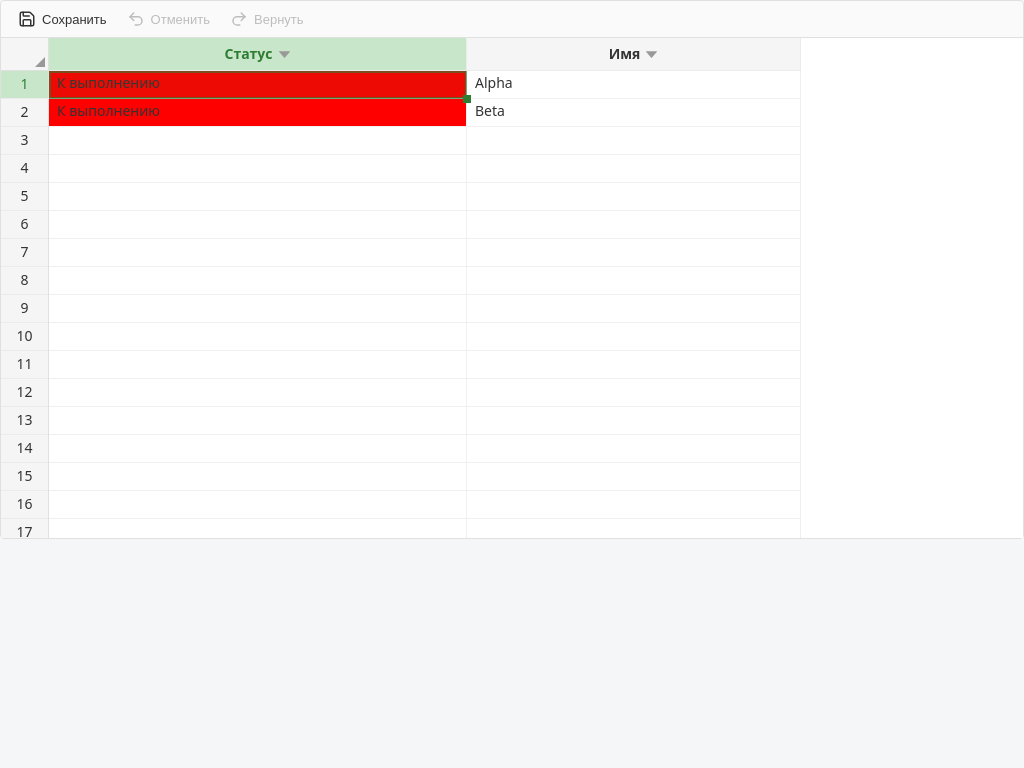
Test: NativeTable: select-редактор › после выбора значения заливка возвращается
The width and height of the screenshot is (1024, 768).
Double-click the element showing "К выполнению" next to "Alpha" at (258, 85), box [49, 71, 467, 99]
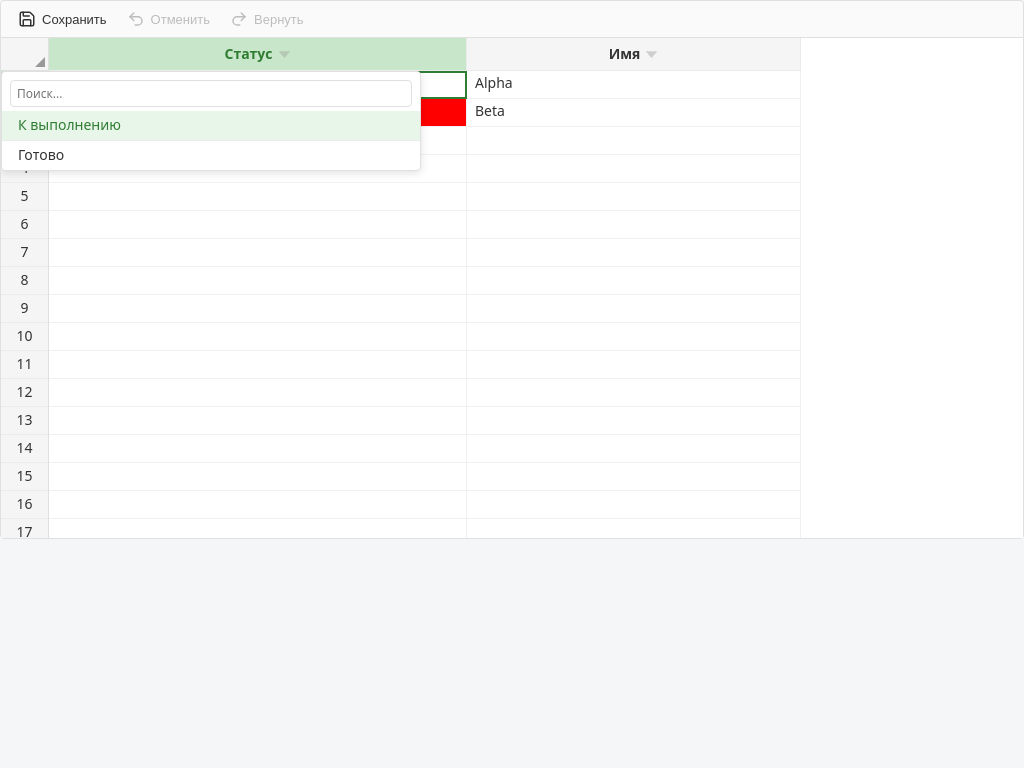
Click the text with class "nt-select-dropdown-item" showing "Готово" at (41, 154), box [18, 145, 64, 164]
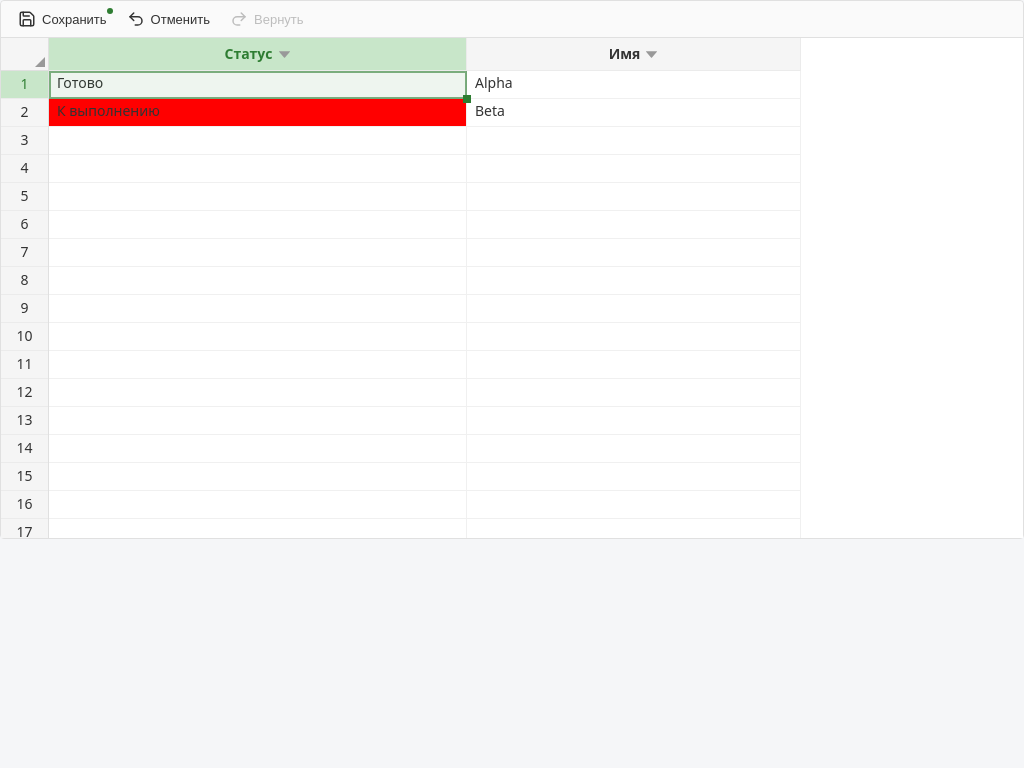
Check: the element with class "nt-editor" is gone
Check: the text with class "nt-cell-text" reads "Готово", box [57, 73, 103, 92]
